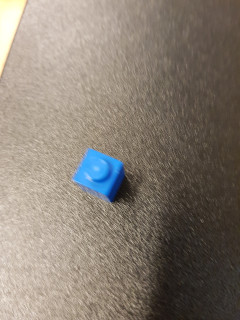1x1 blue: (71, 148, 125, 204)
